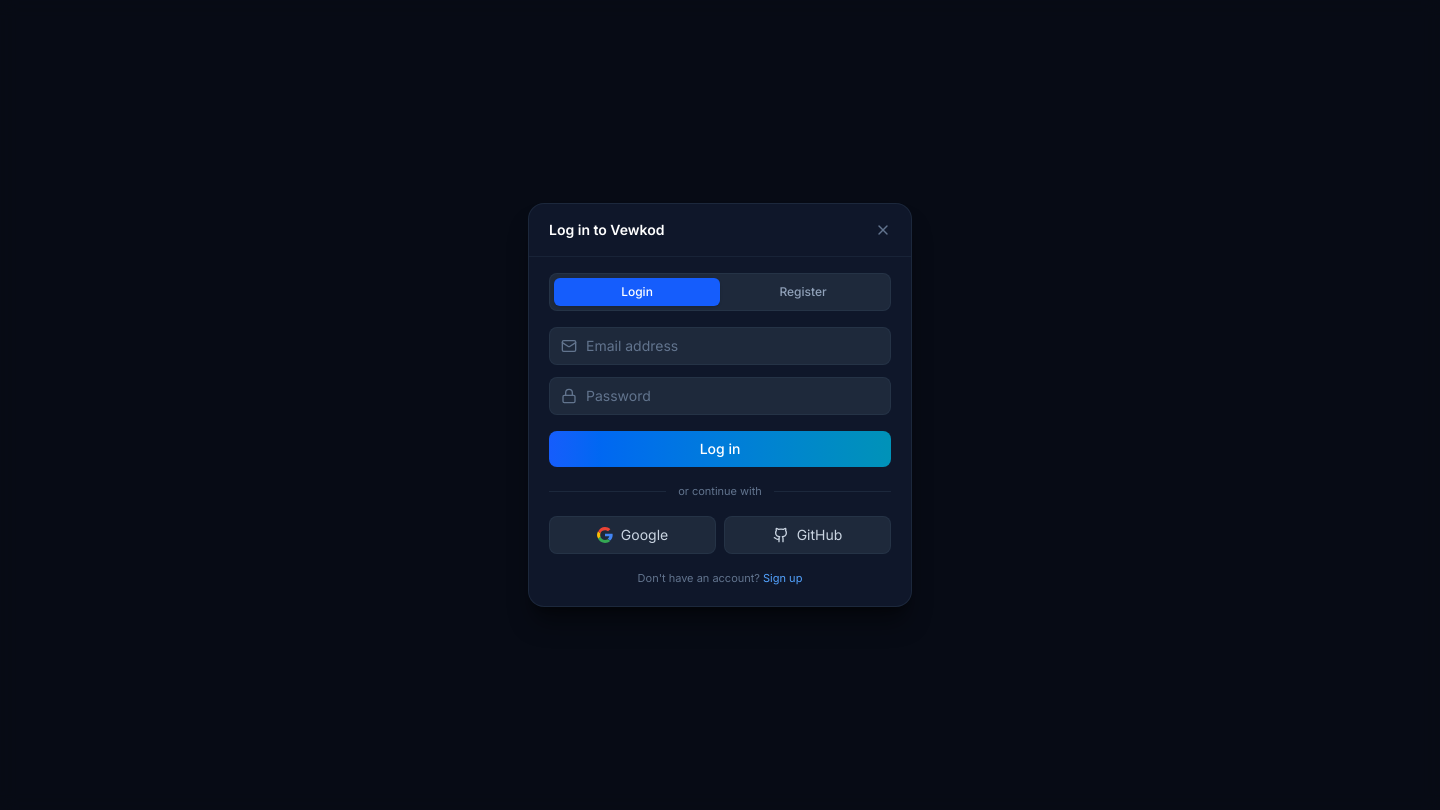
Test case: AuthModal › switches to Register mode and shows the extra fields
Click the button "Register". click: (803, 292)
box: [720, 278, 886, 306]
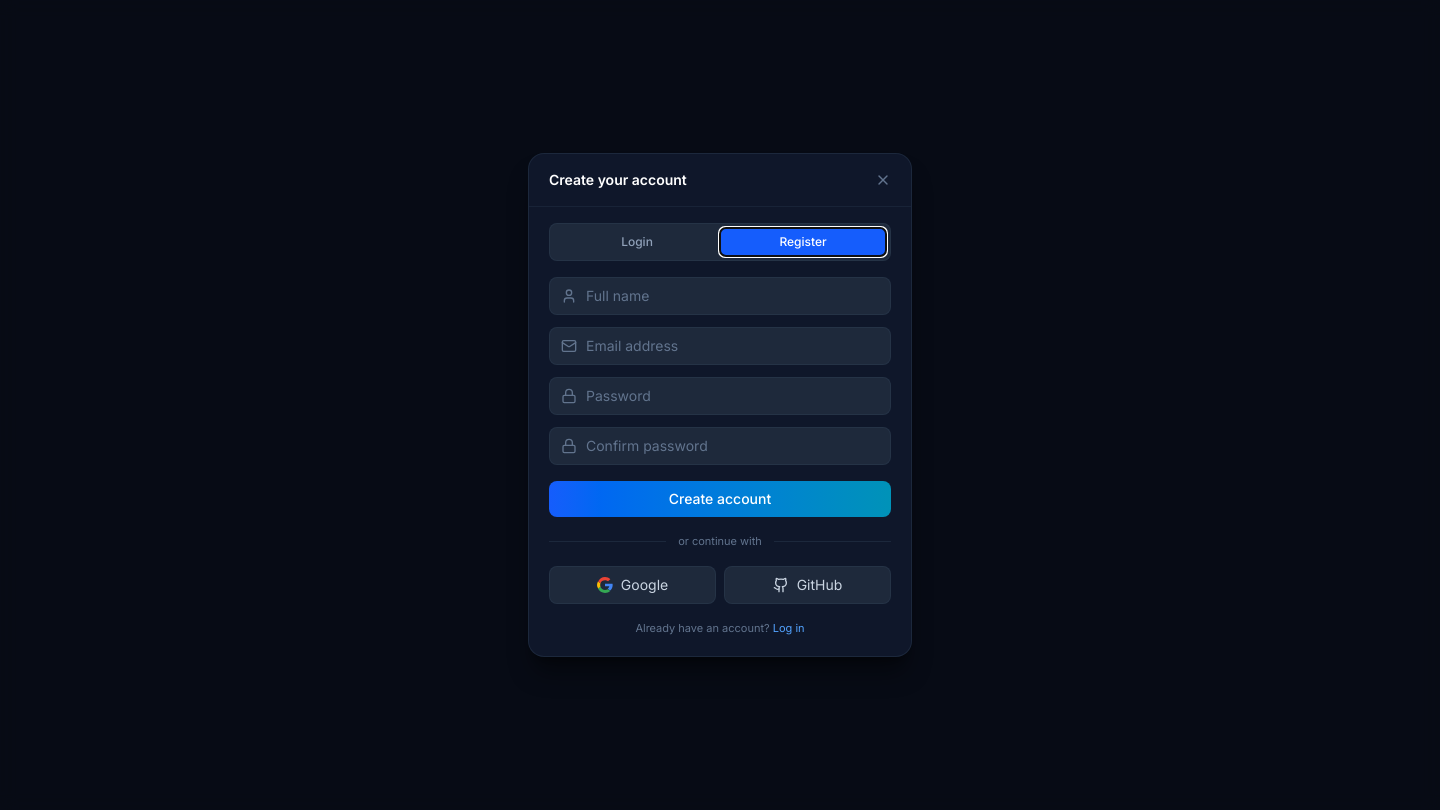
Check: the field with placeholder "Full name" is shown, box [549, 277, 891, 315]
Check: the password field with placeholder "Confirm password" is shown, box [549, 427, 891, 465]
